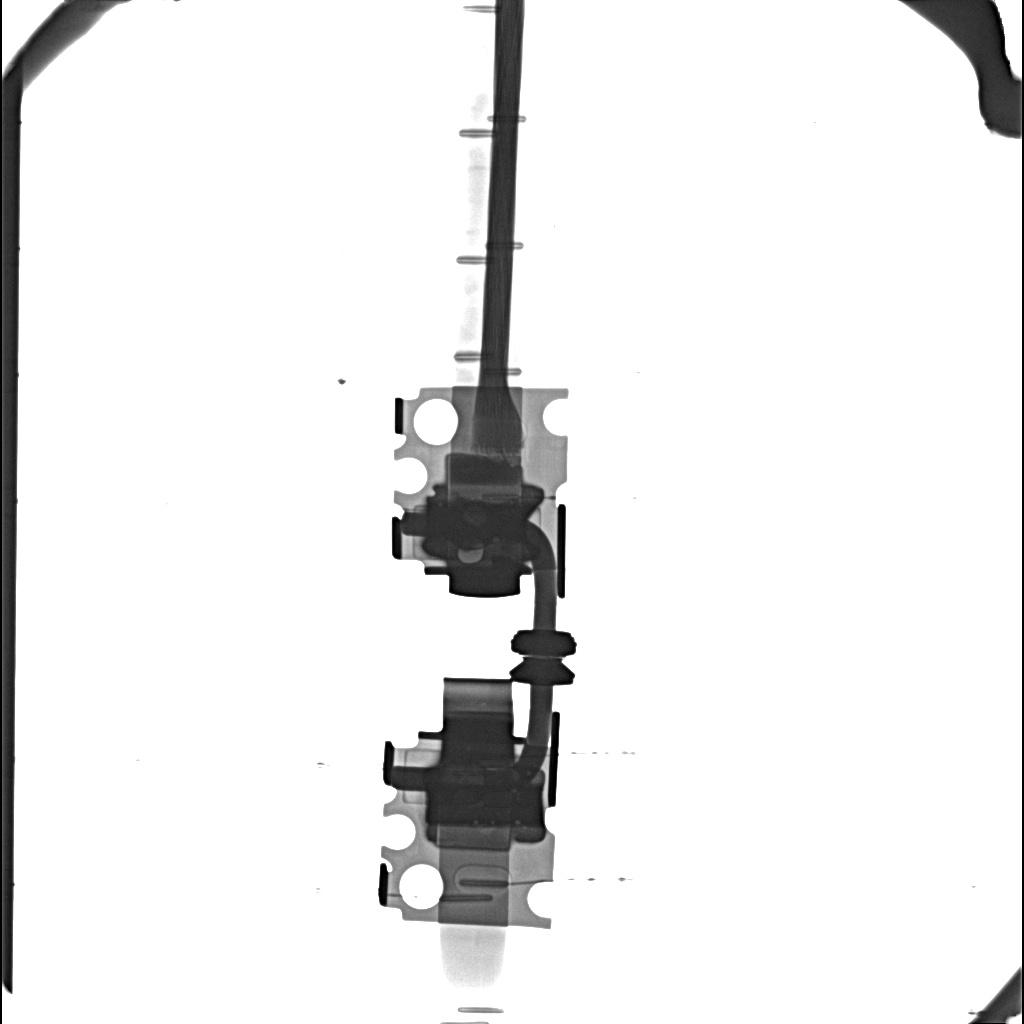PX: (445, 452, 523, 501), (435, 827, 513, 851)
QP: (457, 549, 483, 563)
SX: (423, 504, 535, 555), (427, 783, 541, 825)
